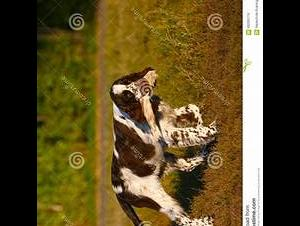dog: (108, 66, 220, 226)
